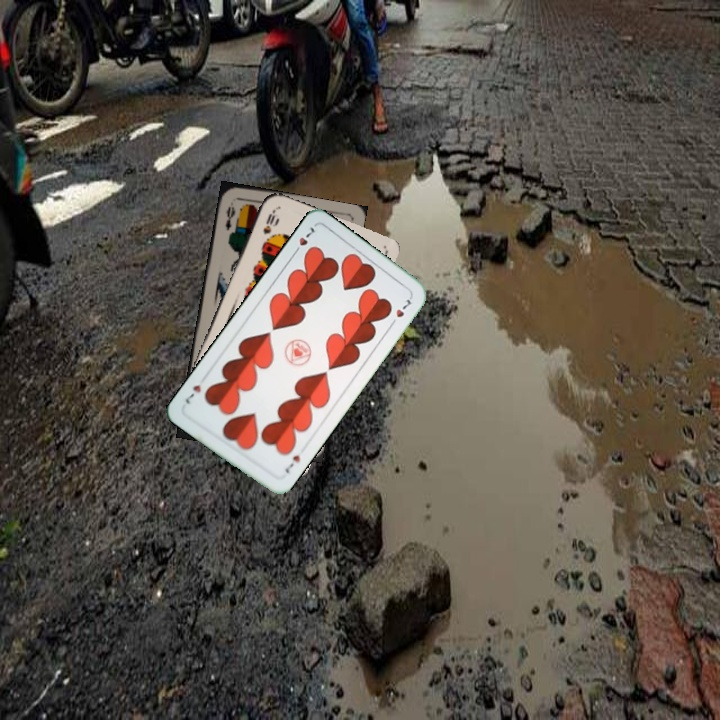EO: (221, 198, 238, 233)
H7: (289, 223, 317, 258), (281, 451, 303, 476)
S10: (259, 205, 278, 237)
